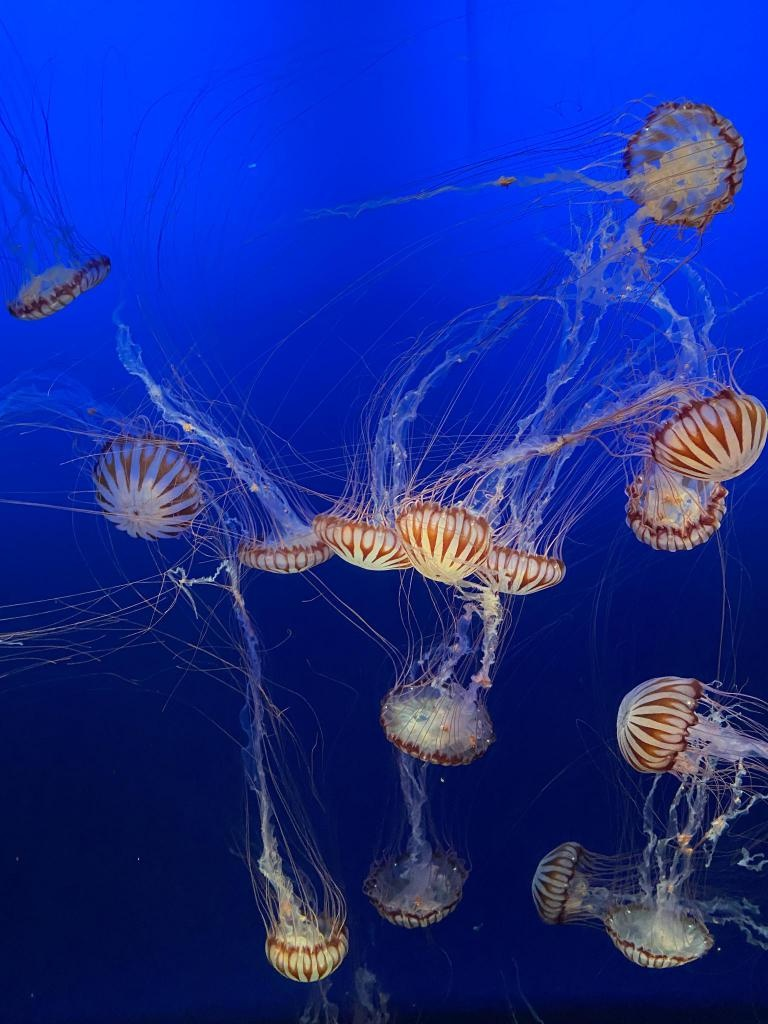jellyfish: (622, 100, 742, 226), (606, 662, 714, 782), (378, 674, 503, 764), (98, 438, 204, 542), (652, 383, 762, 477), (4, 250, 118, 332), (625, 464, 731, 548), (362, 850, 466, 924), (602, 904, 712, 972), (402, 503, 492, 585), (317, 510, 424, 574), (530, 834, 596, 924), (266, 916, 348, 986), (474, 542, 576, 594), (242, 530, 330, 576)
